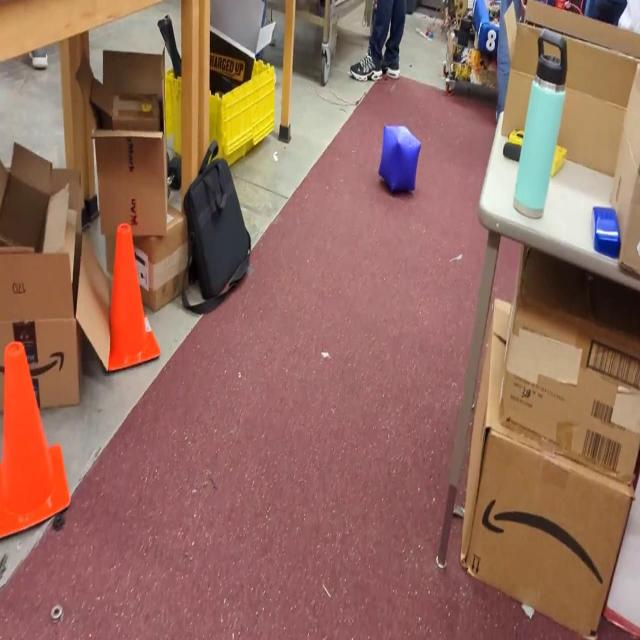frc_cube: (379, 122, 421, 196)
